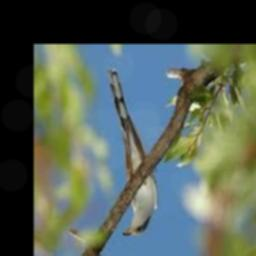Cuckoo: (109, 70, 158, 236)
